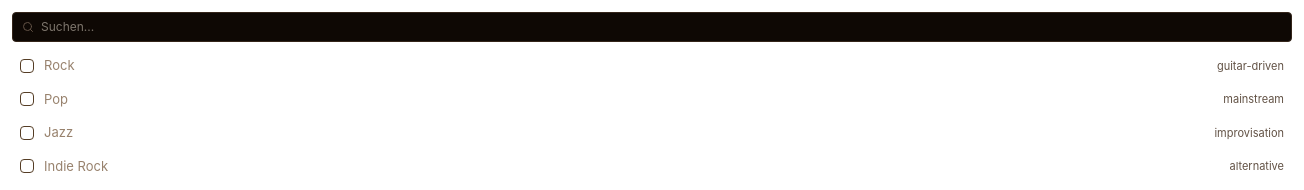
CheckList — Suche › zeigt 'Keine Treffer' bei leerem Resultat
Type "xyznotfound" into the field with placeholder "Suchen..." at (652, 27), box [12,12,1292,42]
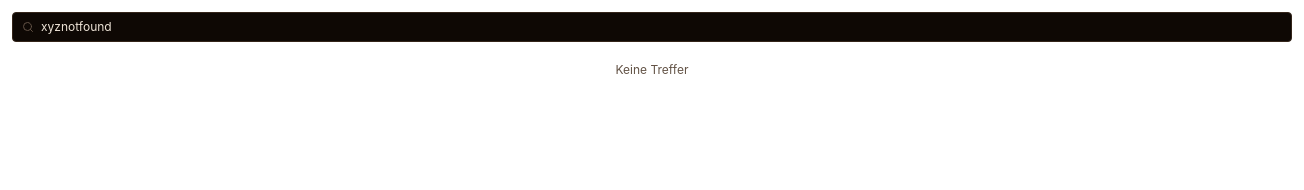
Result: the list item "Keine Treffer" is shown at [616,62,688,77]
